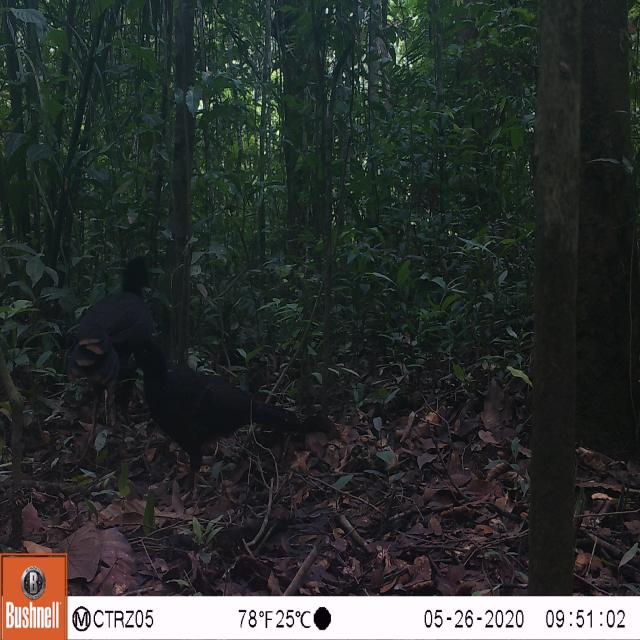Salvins Curassow: (126, 330, 327, 514), (68, 244, 164, 436)
